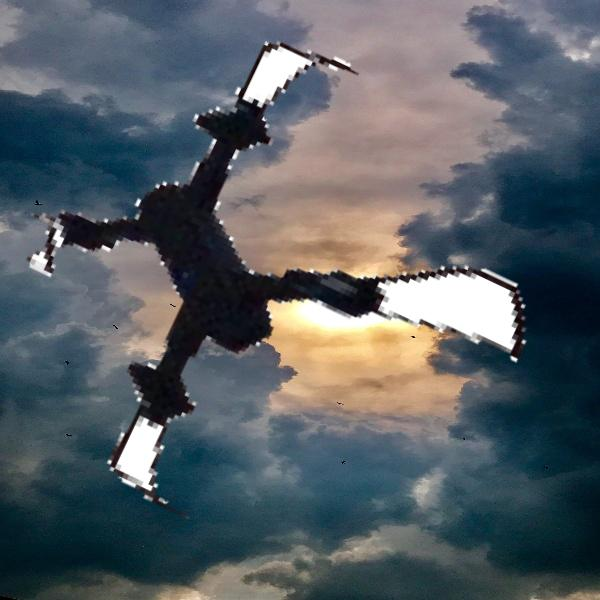drone: (10, 26, 543, 559)
